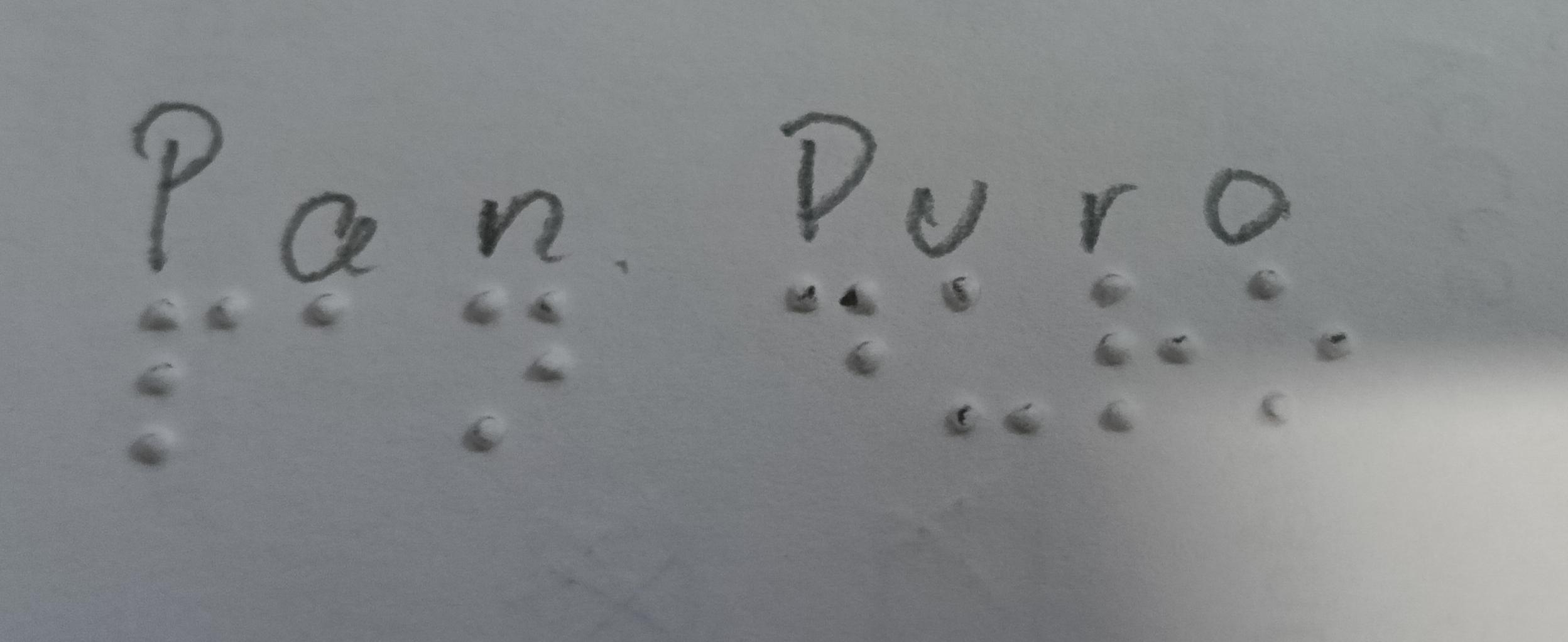a: (255, 278, 406, 354)
d: (756, 255, 905, 397)
n: (436, 266, 588, 464)
o: (1212, 255, 1374, 439)
p: (124, 274, 249, 502)
r: (1062, 266, 1202, 446)
u: (928, 259, 1051, 448)
